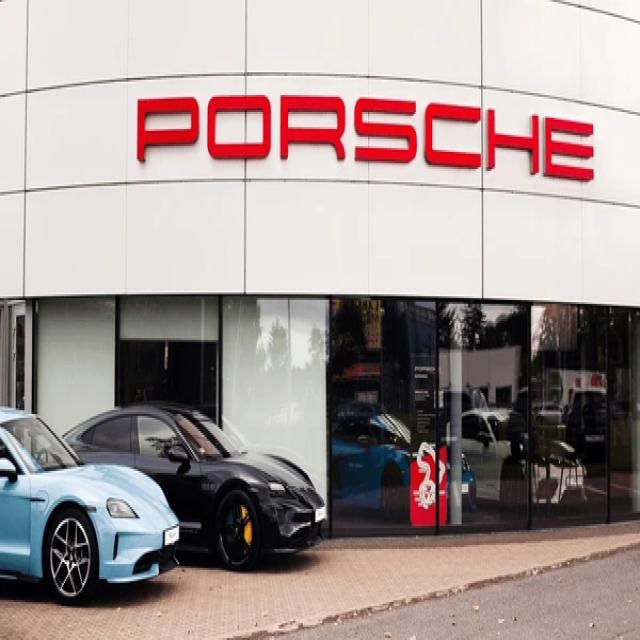porsche: (133, 92, 605, 182)
